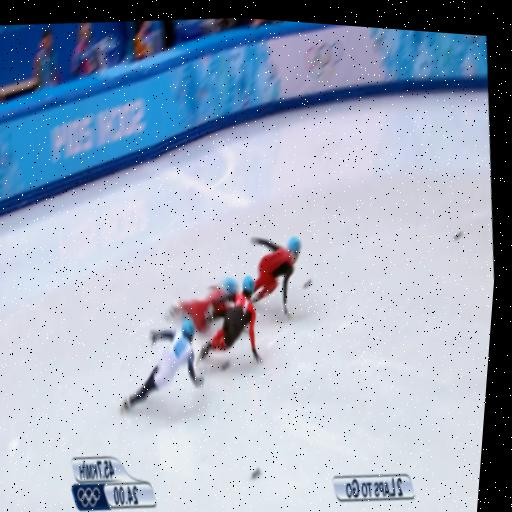Skater: (120, 319, 202, 411), (199, 277, 260, 363), (251, 237, 301, 318), (167, 277, 237, 332)
